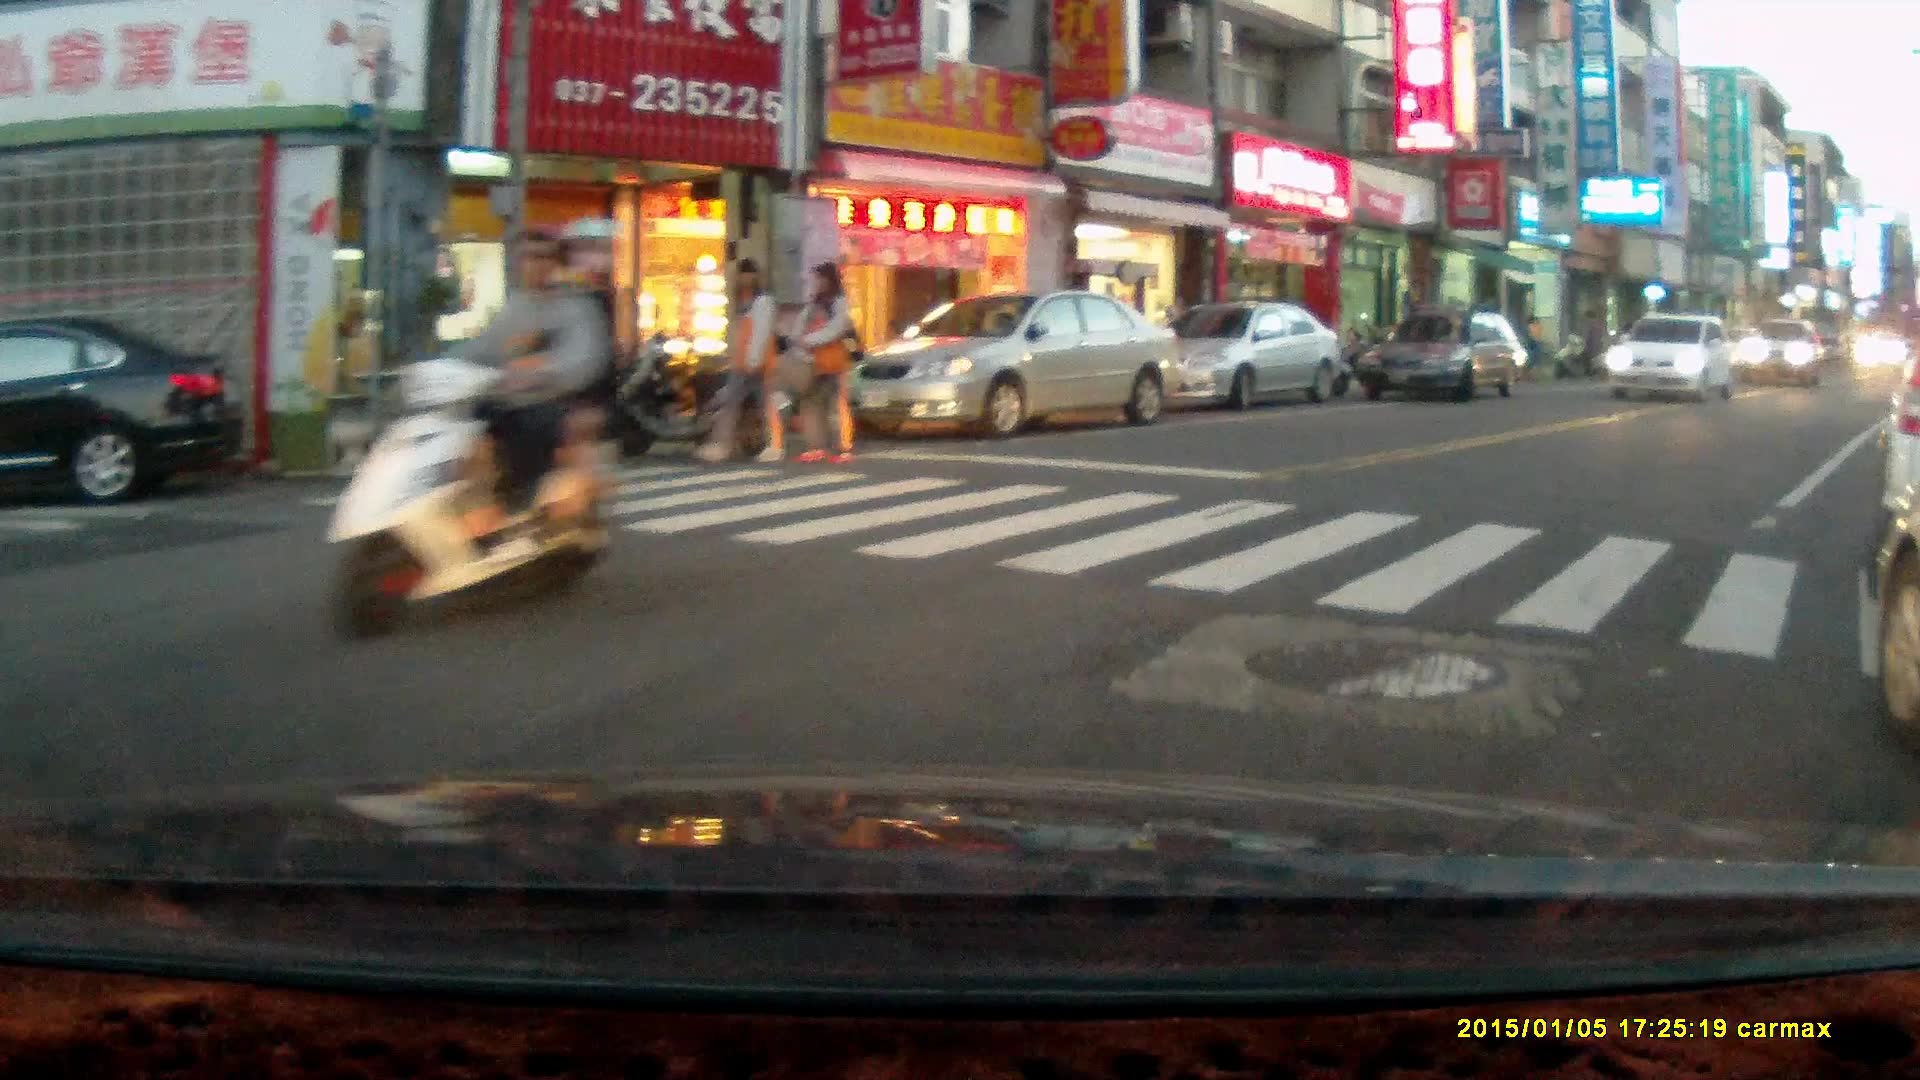pedestrian: (694, 258, 788, 465), (782, 259, 861, 466)
rider: (318, 215, 623, 648)
vehicle: (834, 293, 1183, 440), (1, 309, 252, 506), (1129, 299, 1345, 413), (1358, 311, 1534, 404), (1603, 314, 1738, 402), (1732, 318, 1829, 389), (1846, 328, 1901, 374)
